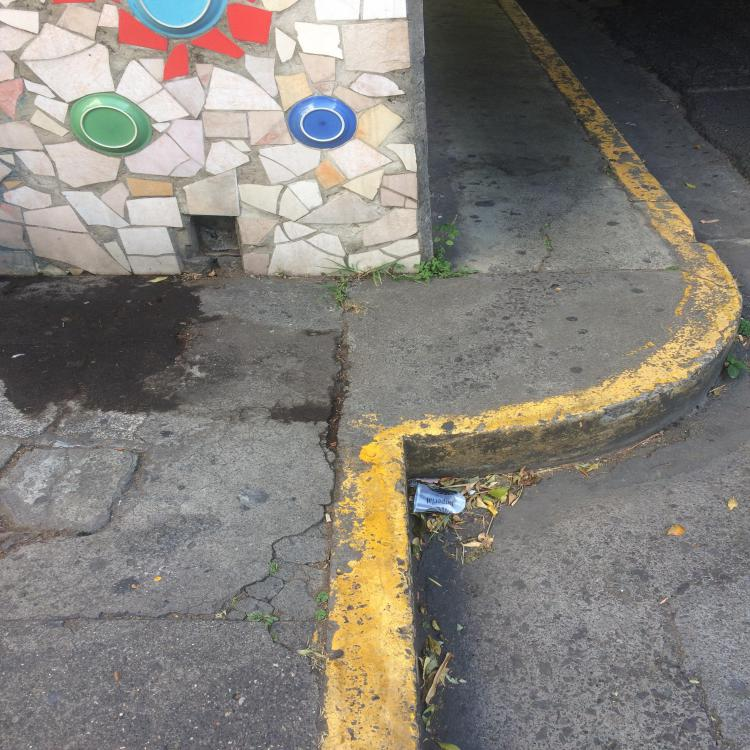Cigarette: (325, 514, 331, 524)
Disposable plastic cup: (413, 482, 466, 514)
